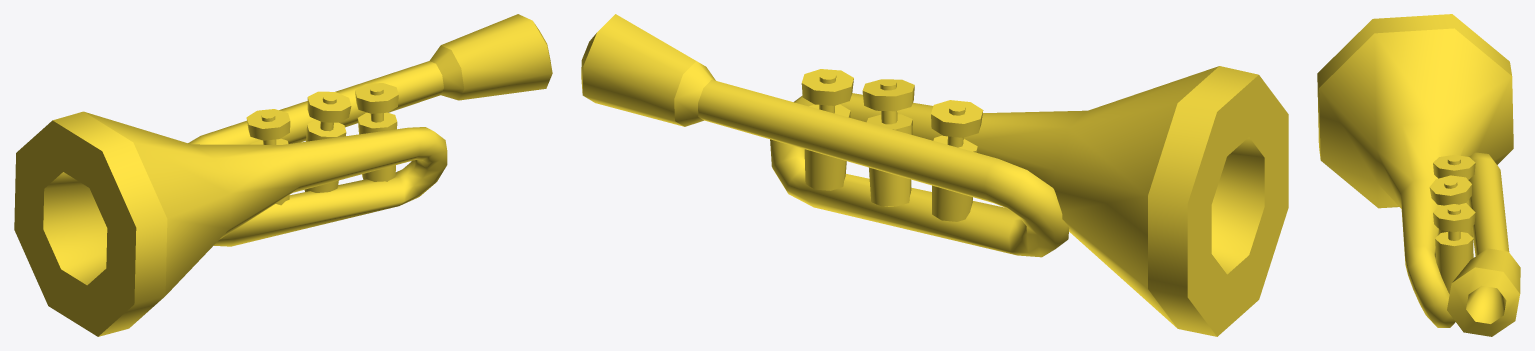
The model's file is Trumpet.obj.
3 views of the same model, side by side, from view 1: azimuth 30°, elevation 25°; view 2: azimuth 150°, elevation 25°; view 3: azimuth 270°, elevation 25° (orthographic). The views are drawn at different scales.
Visible parts, largest first — view 1: Handle; view 2: Handle; view 3: Handle.
Boxes of the visible parts, box(x1,y1,x2,y2) form: Handle: box(14, 14, 552, 336); Handle: box(581, 14, 1288, 336); Handle: box(1317, 14, 1520, 336).
Size of the model in its own units: 1.57 by 0.5515 by 0.5726.
